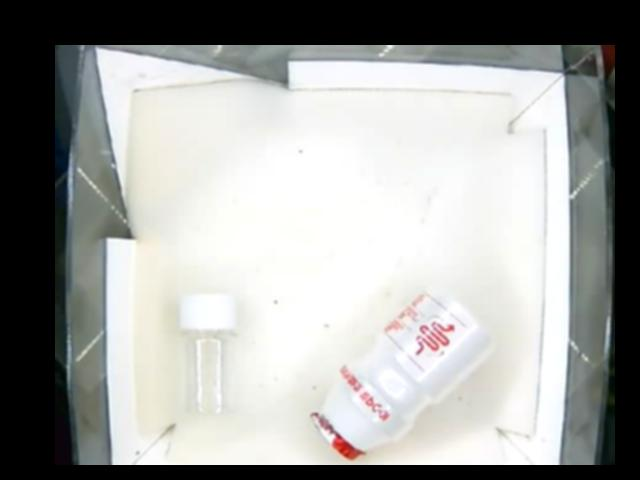Bottle: (308, 282, 490, 459), (179, 293, 240, 423)
